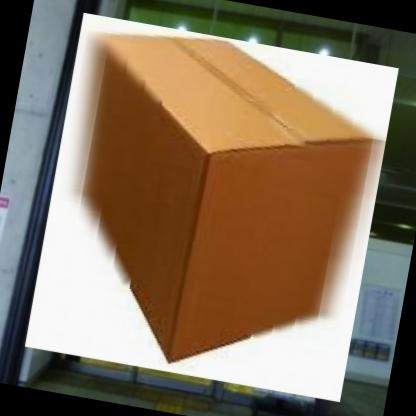box: (18, 6, 404, 408)
